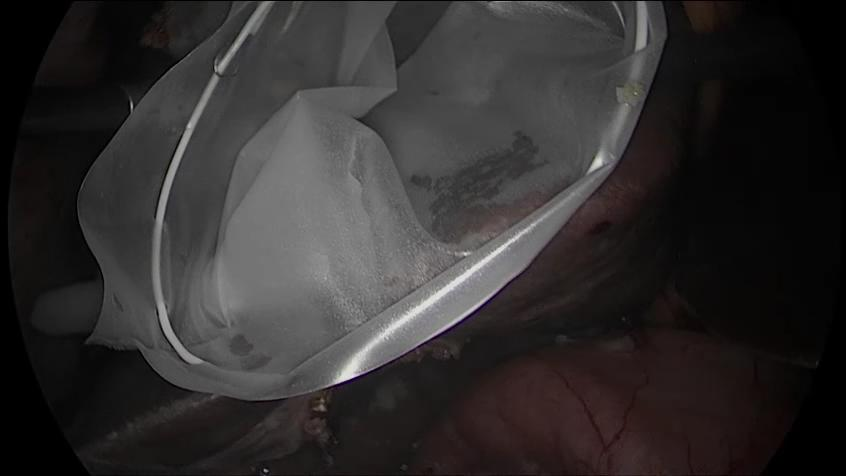SpecimenBag: (66, 17, 697, 408)
